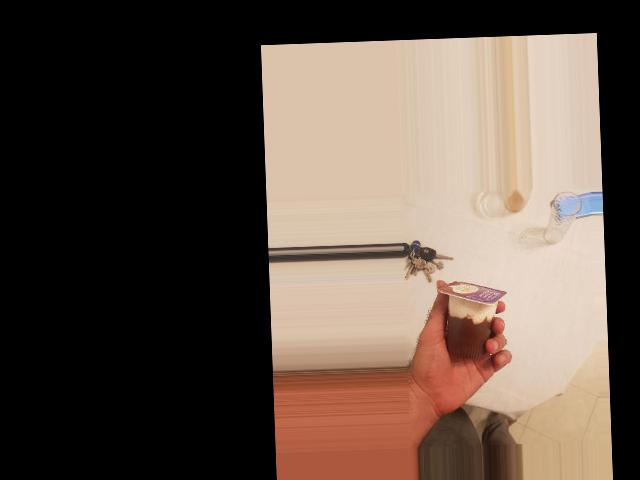milky: (489, 283, 580, 346)
